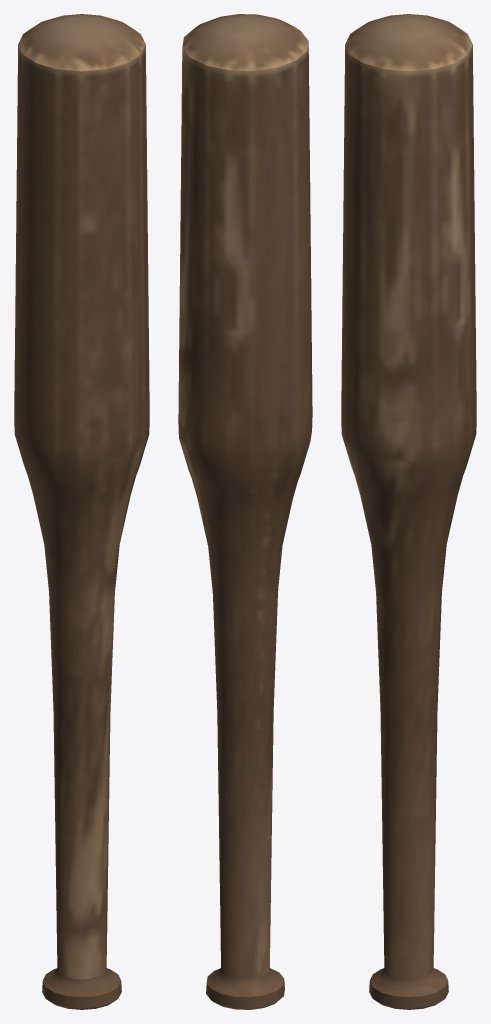
File: PROP_006_Bat.fbx
3 renders of one model, left to right at view 1: azimuth 90°, elevation 25°; view 2: azimuth 210°, elevation 25°; view 3: azimuth 270°, elevation 25°, orthographic.
Parts seen in each view (by area): view 1: Bate.002; view 2: Bate.002; view 3: Bate.002.
Part boxes in pixels (x1,y1,x2,y2): Bate.002: (14,14,149,1009); Bate.002: (178,14,312,1009); Bate.002: (341,14,476,1009).
Bounding box in the file's own units: 0.1765 × 1.4 × 0.177.
Materials: 1 (1 with a texture image).
